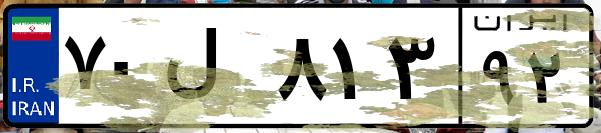0: (110, 28, 158, 98)
1: (330, 28, 385, 110)
2: (525, 38, 570, 115)
3: (385, 28, 445, 110)
7: (57, 26, 110, 100)
8: (270, 28, 330, 110)
9: (475, 38, 525, 113)
ل: (158, 20, 270, 120)
